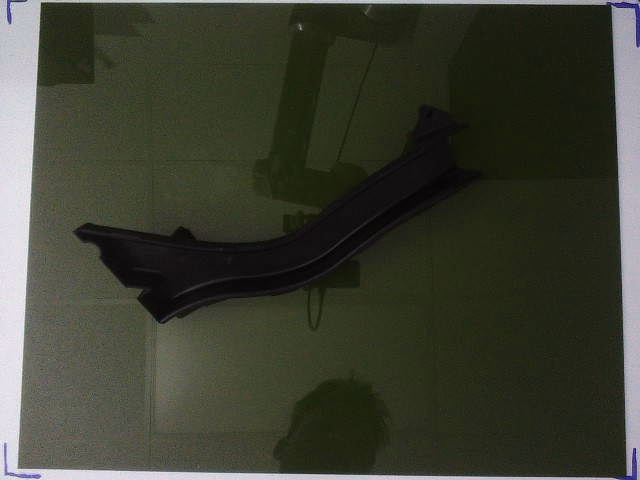887_A-Under: (75, 105, 482, 322)
